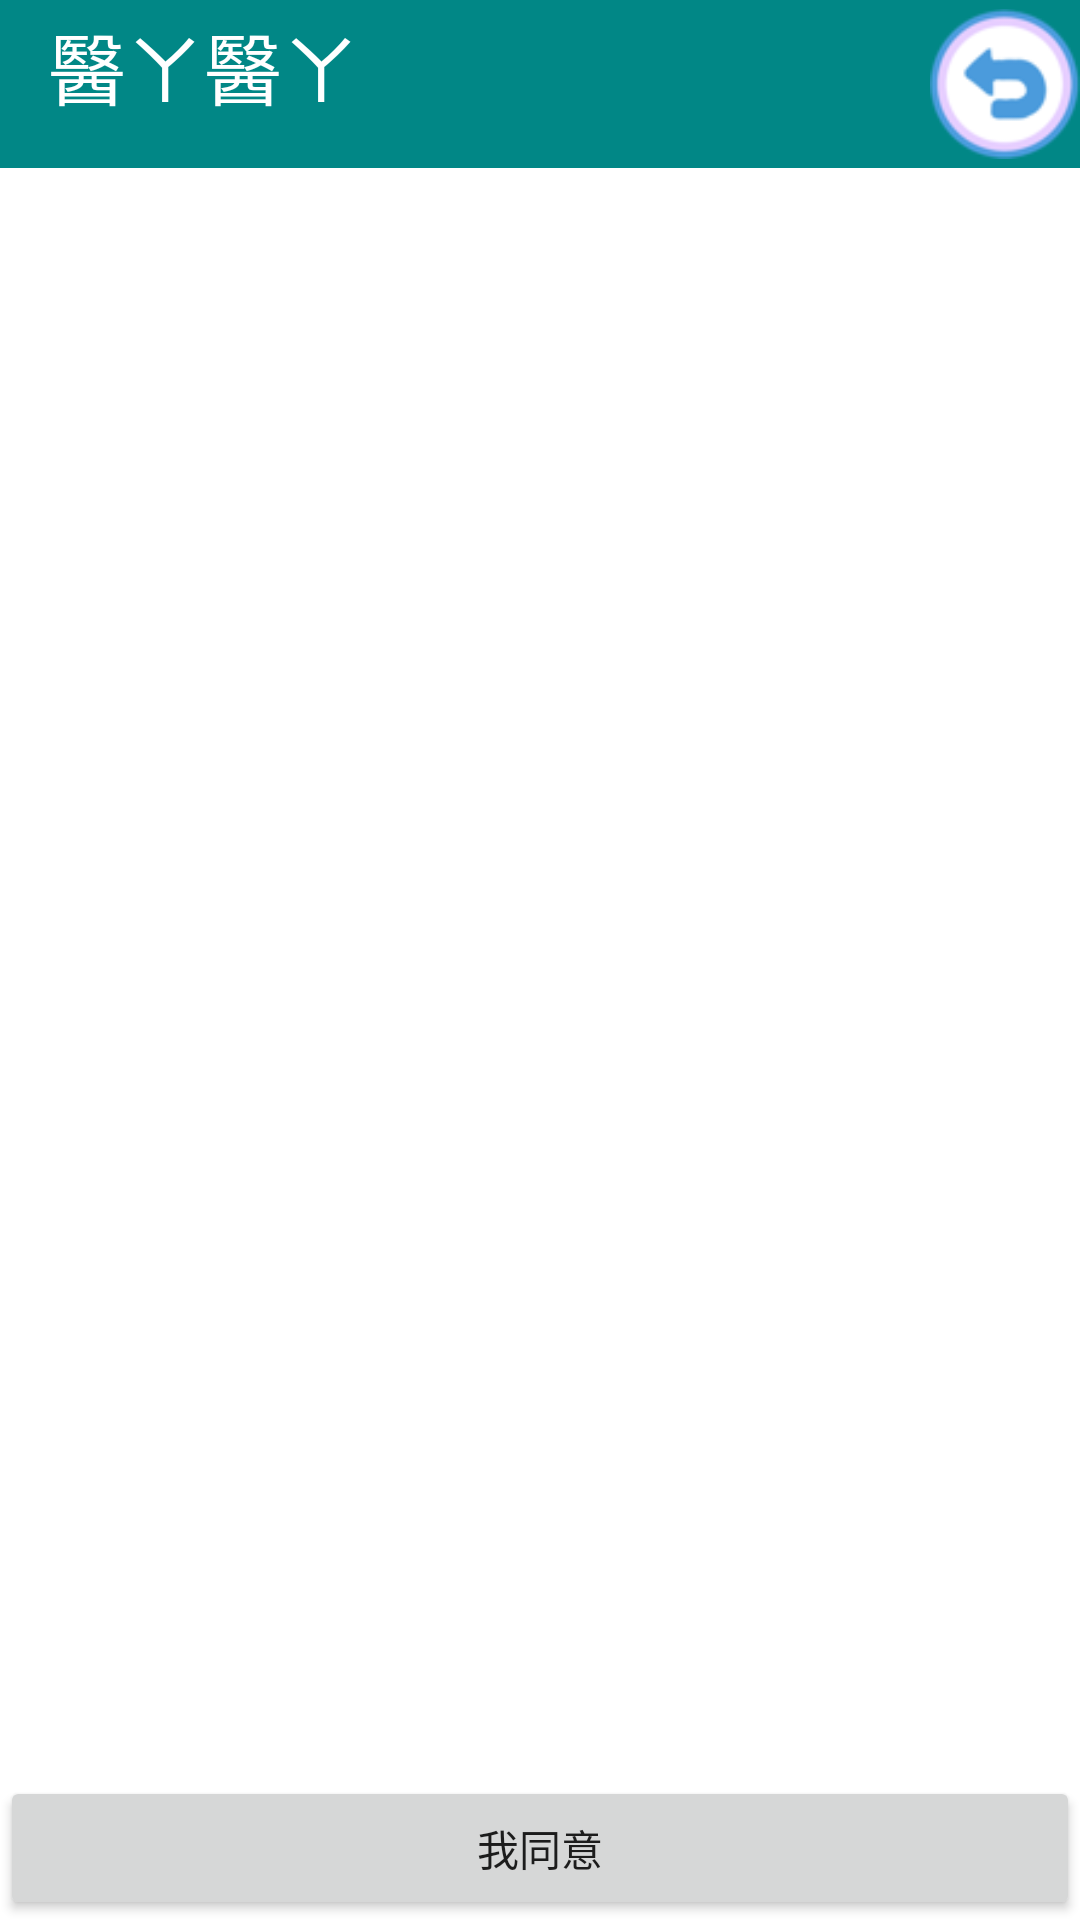

Icons on this 1080w x 1920h Android screen, each with its box as (x1, y1, x2, y2):
back: (930, 9, 1079, 159)
